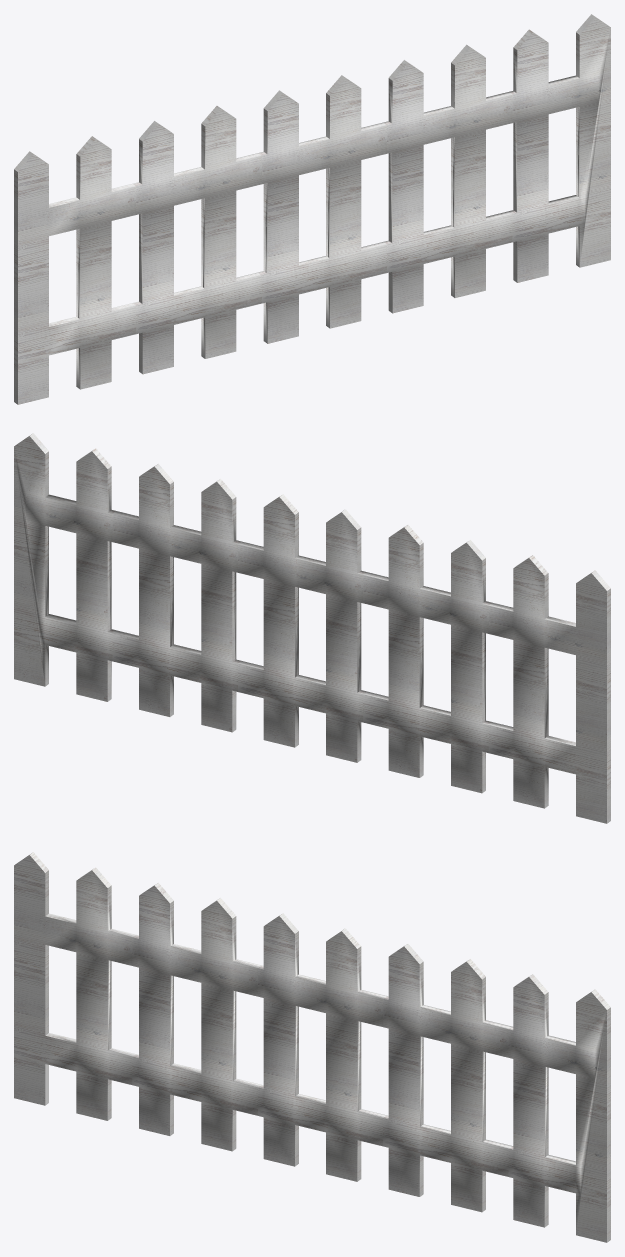
The model's file is WhitePicketFence.fbx.
3 views of the same model, one above another, from view 1: azimuth 30°, elevation 25°; view 2: azimuth 150°, elevation 25°; view 3: azimuth 330°, elevation 25° (orthographic).
Visible parts, largest first — view 1: Component_12_1; view 2: Component_12_1; view 3: Component_12_1.
Boxes of the visible parts, x1=… form: Component_12_1: x1=14, y1=14, x2=610, y2=404; Component_12_1: x1=14, y1=433, x2=610, y2=823; Component_12_1: x1=14, y1=852, x2=610, y2=1242.
Size of the model in its own units: 2.7 by 1.07 by 0.031.
